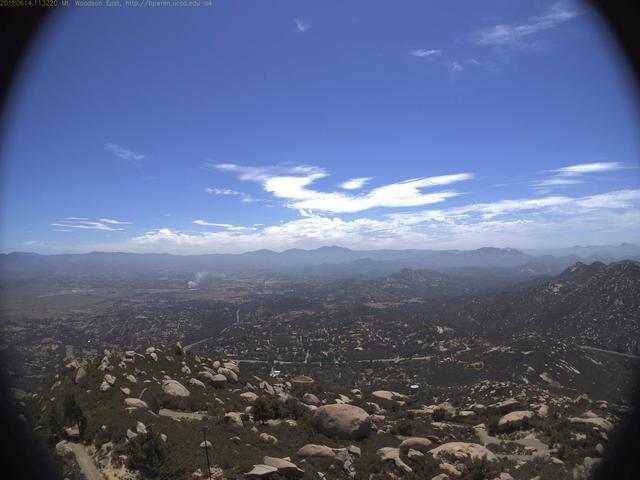smoke: (185, 268, 219, 286)
